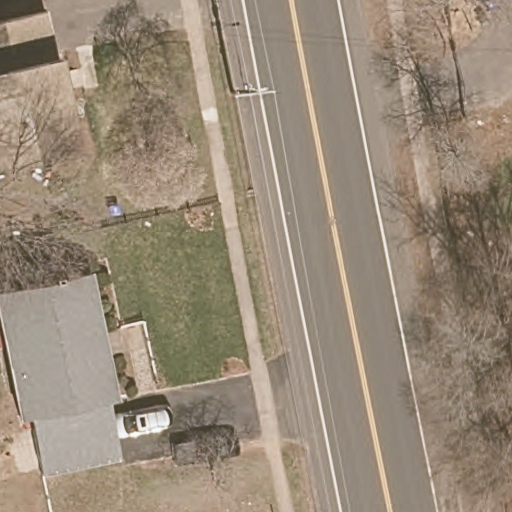DT: (232, 82, 276, 101)
